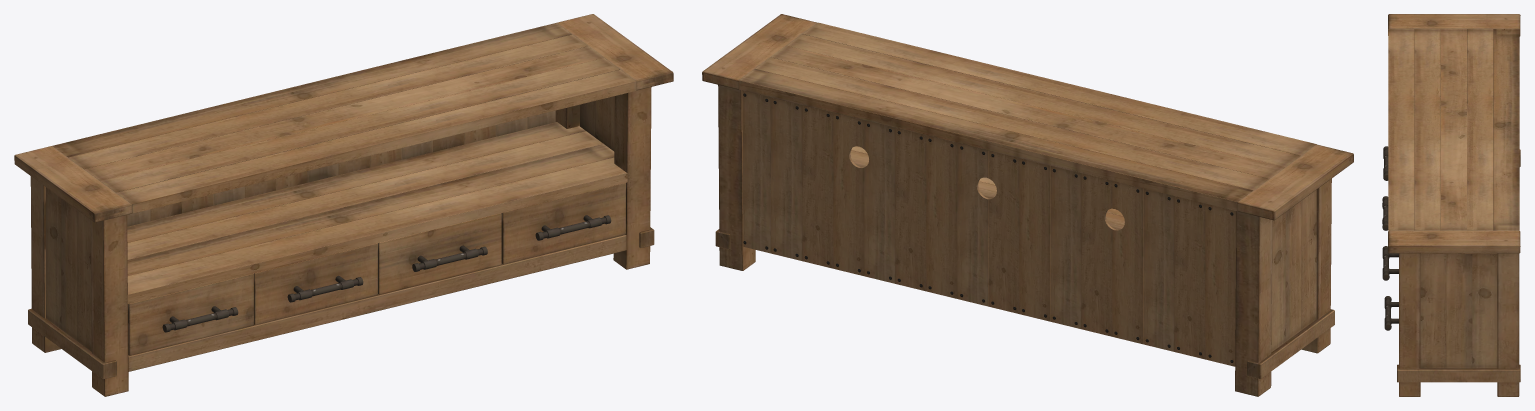
Rendered from abo-B075Z8KX9N.glb.
3 views of the same model, side by side, from view 1: azimuth 30°, elevation 25°; view 2: azimuth 150°, elevation 25°; view 3: azimuth 270°, elevation 25° (orthographic). The views are drawn at different scales.
Bounding box in the file's own units: 1.8 × 0.573 × 0.453.
Materials: 1 (1 with a texture image).
